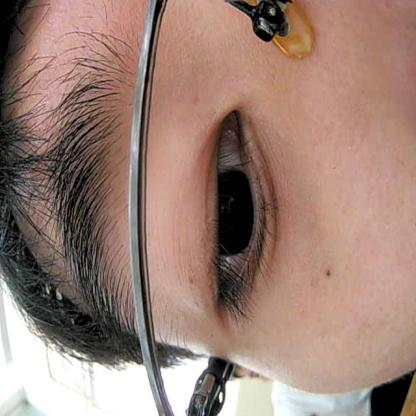Down: (179, 95, 285, 330)
